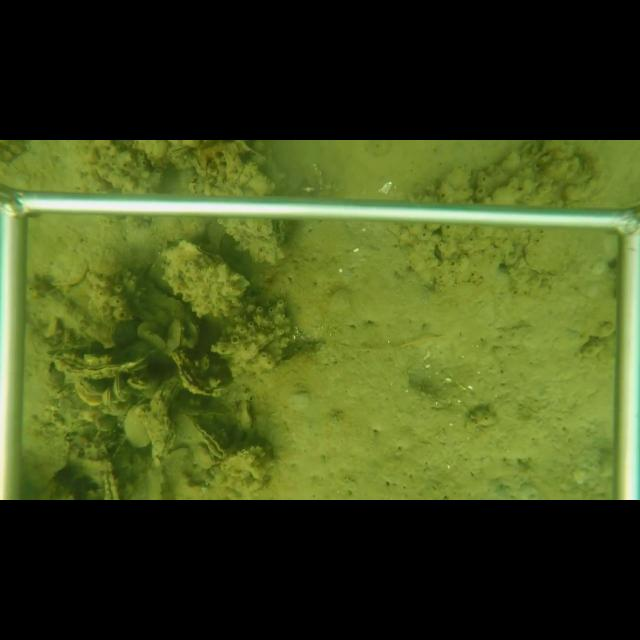Oyster-Closed: (161, 240, 250, 314), (140, 376, 182, 468), (38, 349, 157, 379), (166, 318, 186, 354), (111, 377, 132, 404)
Oyster-Open: (169, 351, 228, 396), (185, 412, 233, 463), (70, 380, 105, 408), (100, 468, 123, 500), (127, 379, 157, 392)
